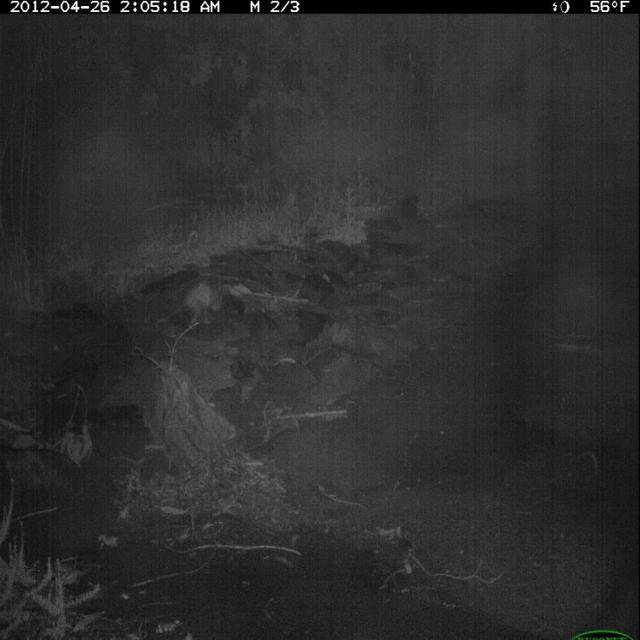opossum: (160, 273, 233, 333)
